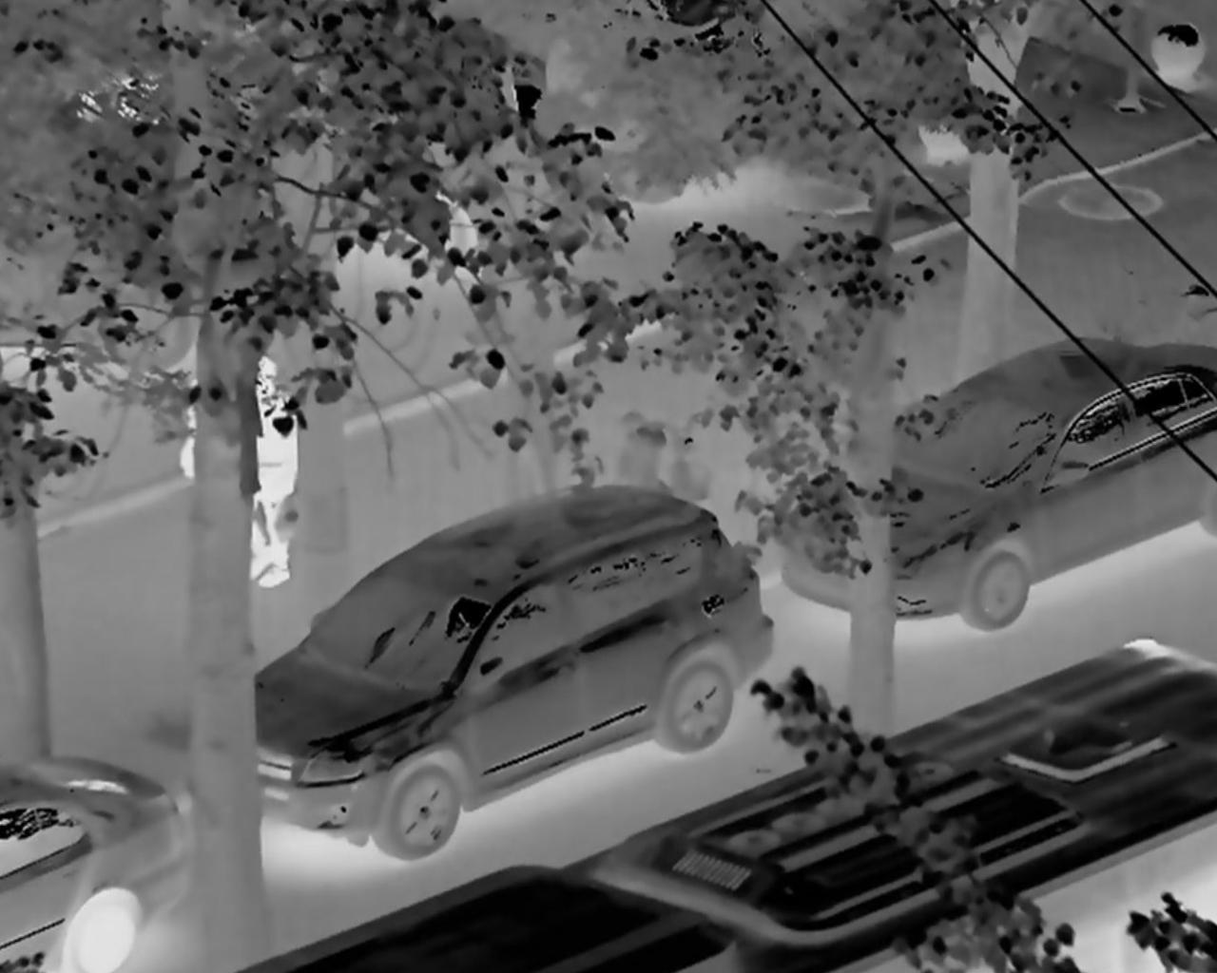person: (237, 337, 308, 590)
